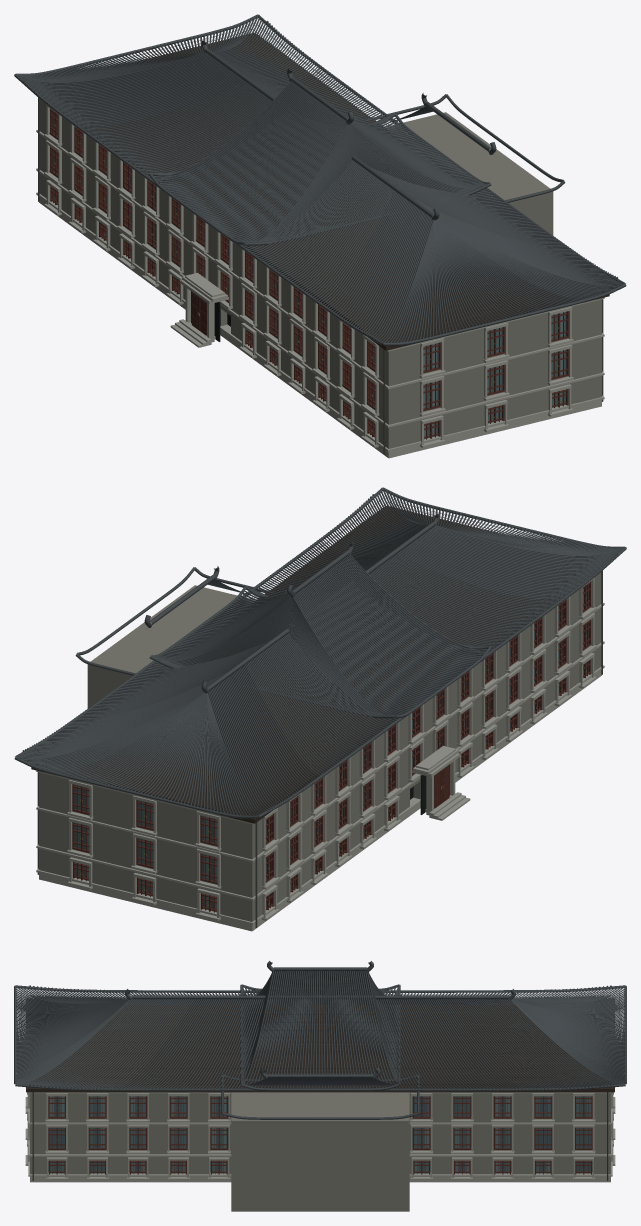
File: east.glb
3 views of the same model, one above another, from view 1: azimuth 30°, elevation 25°; view 2: azimuth 150°, elevation 25°; view 3: azimuth 270°, elevation 25° (orthographic). The views are drawn at different scales.
Visible parts, largest first — view 1: roof-ribs, historic-brick, limestone, window-wood, redwood, roof, window-glass-warm, window-glass, recess, drainpipe; view 2: roof-ribs, historic-brick, limestone, window-wood, redwood, roof, window-glass-warm, window-glass, recess, drainpipe; view 3: roof-ribs, historic-brick, window-wood, limestone, redwood, roof, window-glass-warm, window-glass, recess, curtain-dark, window-glass-cool, curtain.
Boxes of the visible parts, x1,y1,x2,y2 form: roof-ribs: (14,14,626,345); historic-brick: (39,99,601,448); limestone: (36,104,604,458); window-wood: (85,32,609,350); redwood: (49,108,568,439); roof: (47,23,589,342); window-glass-warm: (52,112,566,434); window-glass: (52,131,438,439); recess: (57,154,565,435); drainpipe: (38,97,603,454); roof-ribs: (14,487,626,818); historic-brick: (39,572,601,921); limestone: (36,577,604,931); window-wood: (31,505,555,823); redwood: (72,581,591,912); roof: (53,498,593,815); window-glass-warm: (74,585,588,896); window-glass: (202,623,588,912); recess: (75,627,583,908); drainpipe: (37,570,602,927); roof-ribs: (14,961,626,1119); historic-brick: (30,1092,610,1211); window-wood: (26,999,614,1092); limestone: (25,1087,615,1182); redwood: (48,1096,592,1174); roof: (21,971,619,1087); window-glass-warm: (49,1096,591,1173); window-glass: (49,1096,590,1173); recess: (48,1096,592,1172); curtain-dark: (51,1099,590,1170); window-glass-cool: (131,1096,469,1173); curtain: (50,1099,549,1170).
Bounding box in the file's own units: 28.39 × 18.11 × 56.34.
